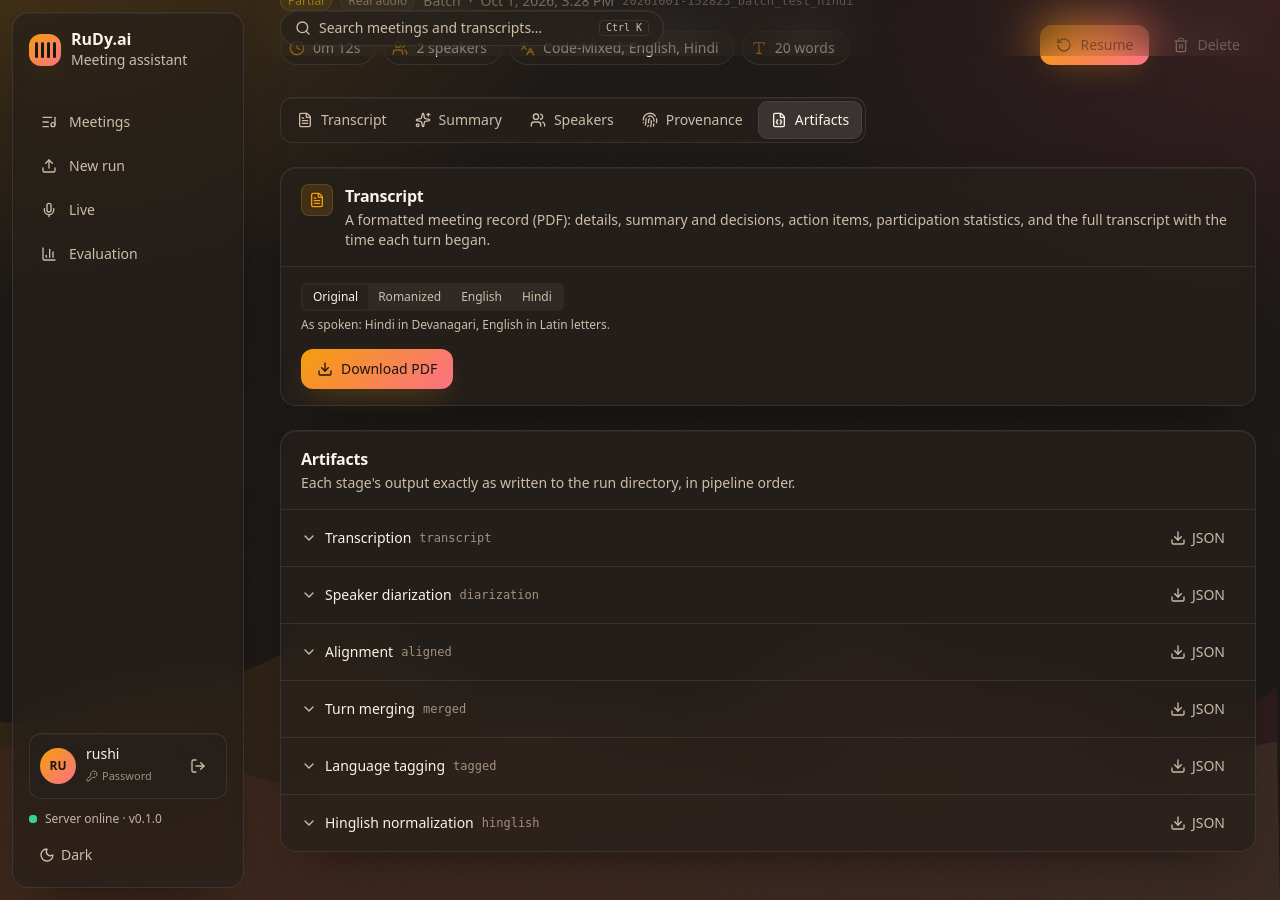
it: run detail: guideline fixes › keeps expanded artifacts in the URL
This screenshot has width=1280, height=900.
(page scrolled)
Click the button "Language tagging tagged" at (385, 766), box [301,756,1148,776]
(page scrolled)
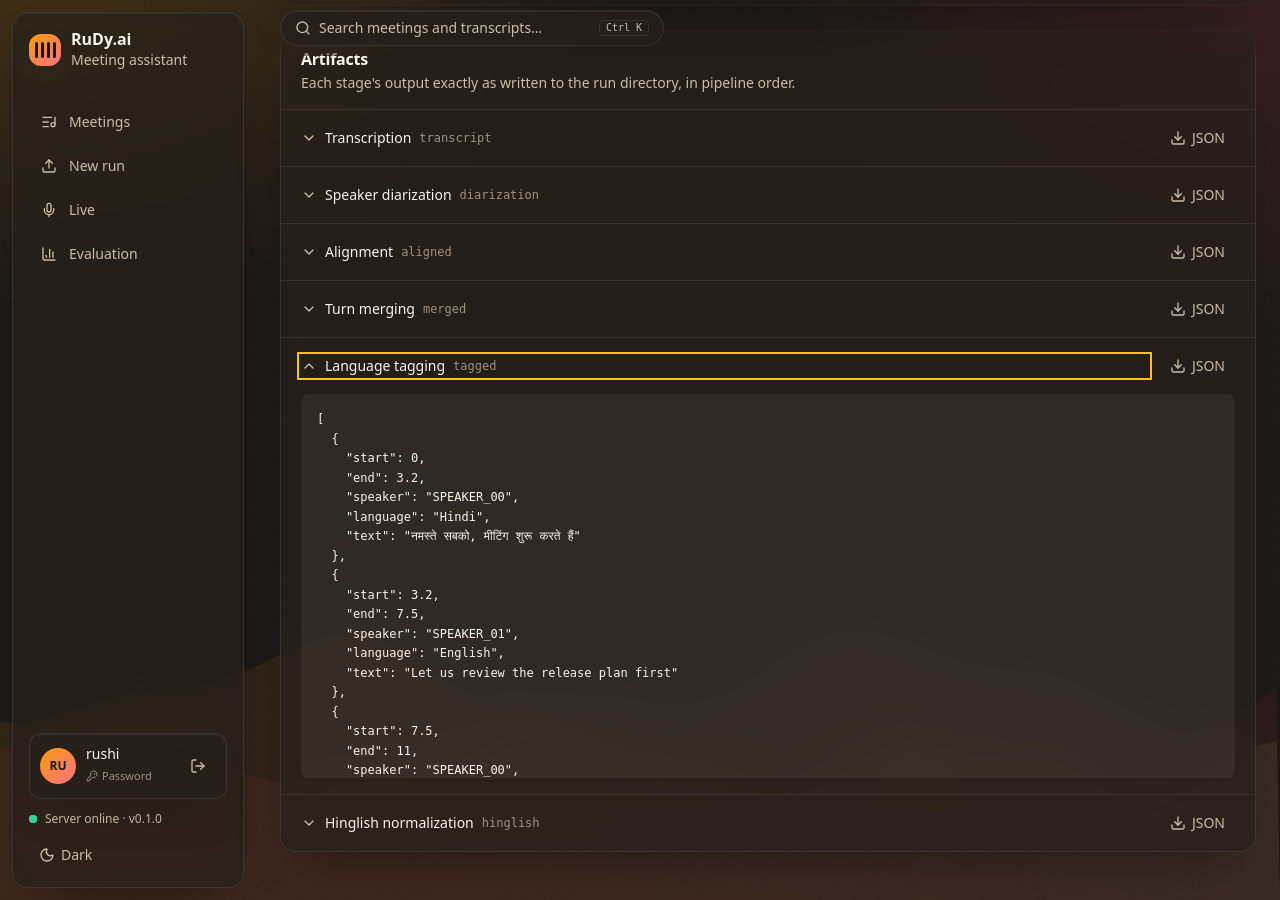
Result: the element named "tagged JSON" is shown at [301,394,1235,778]
